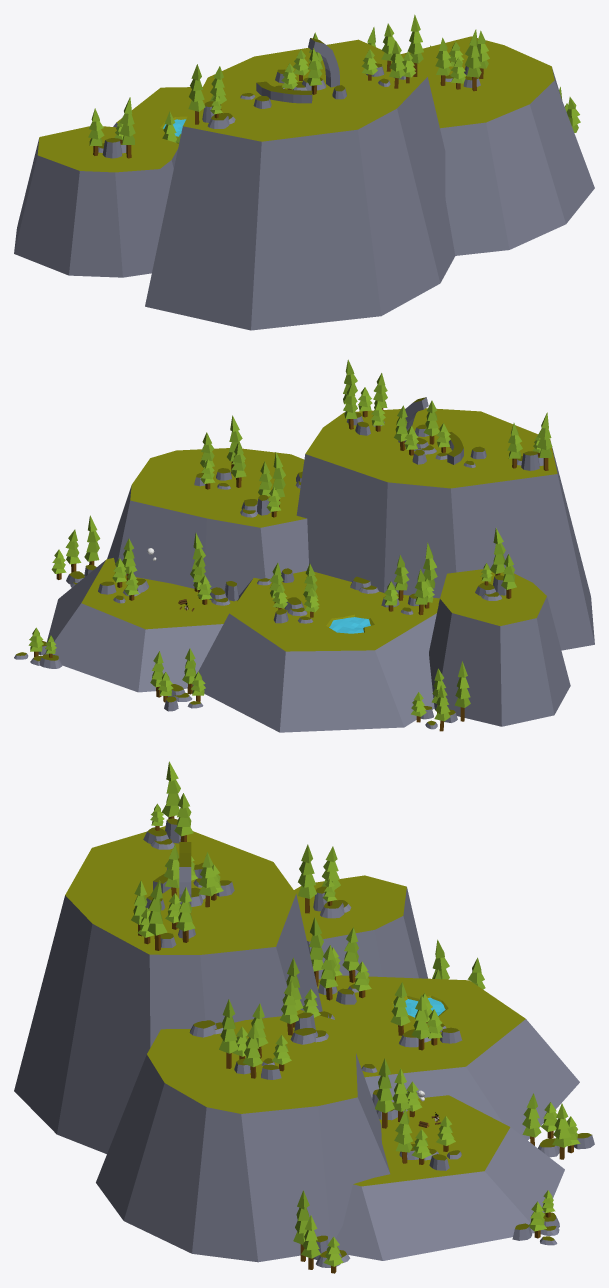
File: LowPolyWorld3.fbx
3 views of the same model, one above another, from view 1: azimuth 30°, elevation 25°; view 2: azimuth 150°, elevation 25°; view 3: azimuth 270°, elevation 25° (orthographic). The views are drawn at different scales.
Visible parts, largest first — view 1: Cube.004, Cube, Cube.012, Cube.043, Cube.082, Cube.074, Cube.080, Cube.075, Cube.014, Cube.044, Cube.041, Cube.068; view 2: Cube.004, Cube, Cube.060, Cube.019, Cube.041, Cube.082, Cube.007; view 3: Cube.004, Cube, Cube.007, Cube.080, Cube.021, Cube.012, Cube.043, Cube.074, Cube.041.
Part boxes in pixels (box(x1,y1,x2,y2)): Cube.004: box(14, 36, 594, 330); Cube: box(256, 38, 339, 103); Cube.012: box(465, 29, 481, 91); Cube.043: box(119, 97, 135, 158); Cube.082: box(188, 64, 205, 124); Cube.074: box(408, 14, 423, 76); Cube.080: box(202, 101, 235, 128); Cube.075: box(389, 40, 405, 88); Cube.014: box(435, 37, 451, 85); Cube.044: box(88, 108, 104, 155); Cube.041: box(98, 138, 126, 158); Cube.068: box(307, 48, 322, 94); Cube.004: box(44, 408, 594, 732); Cube: box(398, 397, 463, 464); Cube.060: box(454, 661, 470, 721); Cube.019: box(209, 581, 238, 605); Cube.041: box(475, 575, 506, 600); Cube.082: box(537, 412, 552, 470); Cube.007: box(240, 495, 270, 517); Cube.004: box(14, 826, 579, 1262); Cube: box(153, 842, 203, 905); Cube.007: box(290, 1012, 328, 1044); Cube.080: box(143, 818, 180, 849); Cube.021: box(375, 1058, 394, 1128); Cube.012: box(219, 999, 238, 1068); Cube.043: box(297, 844, 316, 913); Cube.074: box(147, 880, 167, 950); Cube.041: box(313, 886, 351, 918).
Size of the model in its own units: 848 by 346 by 684.
